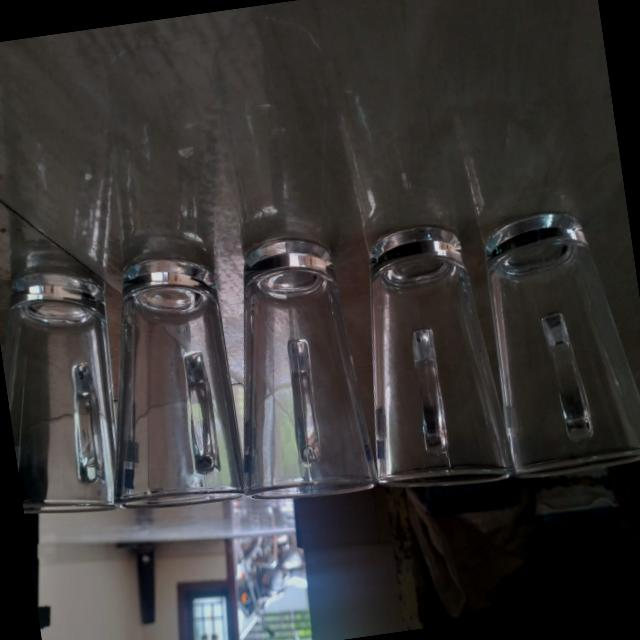glass-VX4N: (341, 210, 508, 502), (77, 234, 245, 520), (478, 200, 640, 478), (218, 226, 374, 510), (0, 249, 134, 521), (472, 221, 478, 237)
